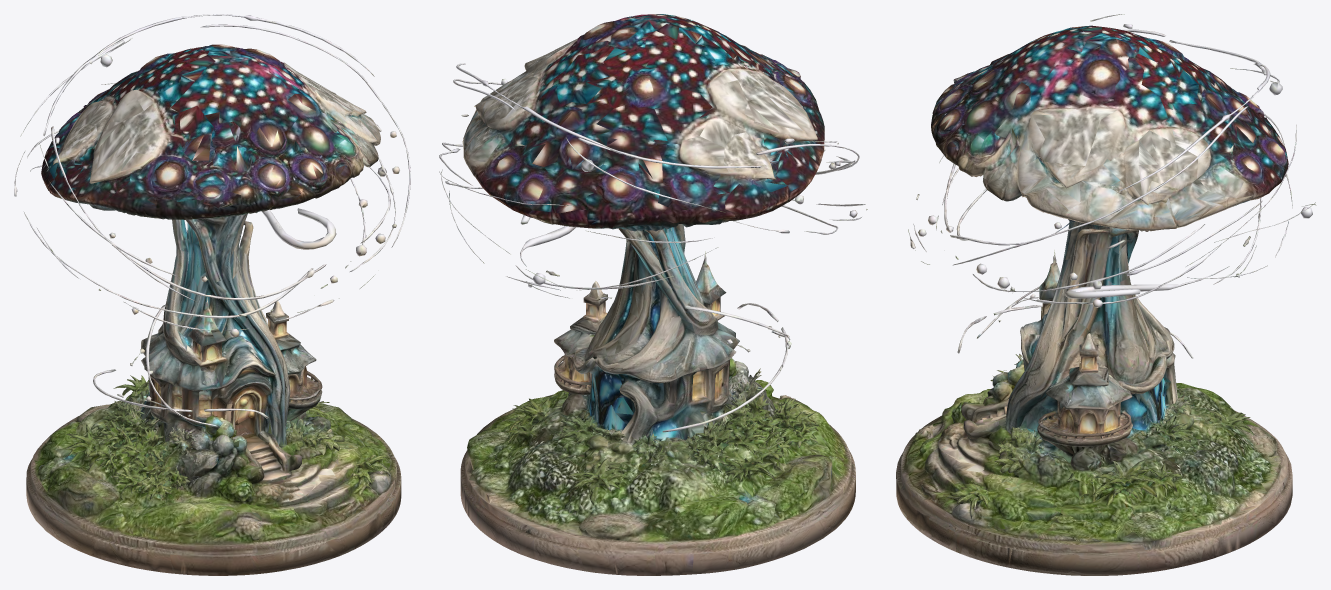
Rendered from Nova_Shroom.glb.
The picture shows the model from 3 angles, left to right: view 1: azimuth 30°, elevation 25°; view 2: azimuth 150°, elevation 25°; view 3: azimuth 270°, elevation 25°; orthographic projection. The views are drawn at different scales.
Parts seen in each view (by area): view 1: Nova_Shroom; view 2: Nova_Shroom; view 3: Nova_Shroom.
Part boxes in pixels (x1=…): Nova_Shroom: x1=14, y1=14, x2=410, y2=575; Nova_Shroom: x1=439, y1=14, x2=867, y2=575; Nova_Shroom: x1=896, y1=14, x2=1316, y2=575.
Size of the model in its own units: 1.56 by 1.9 by 1.57.
1 material, 1 textured.
